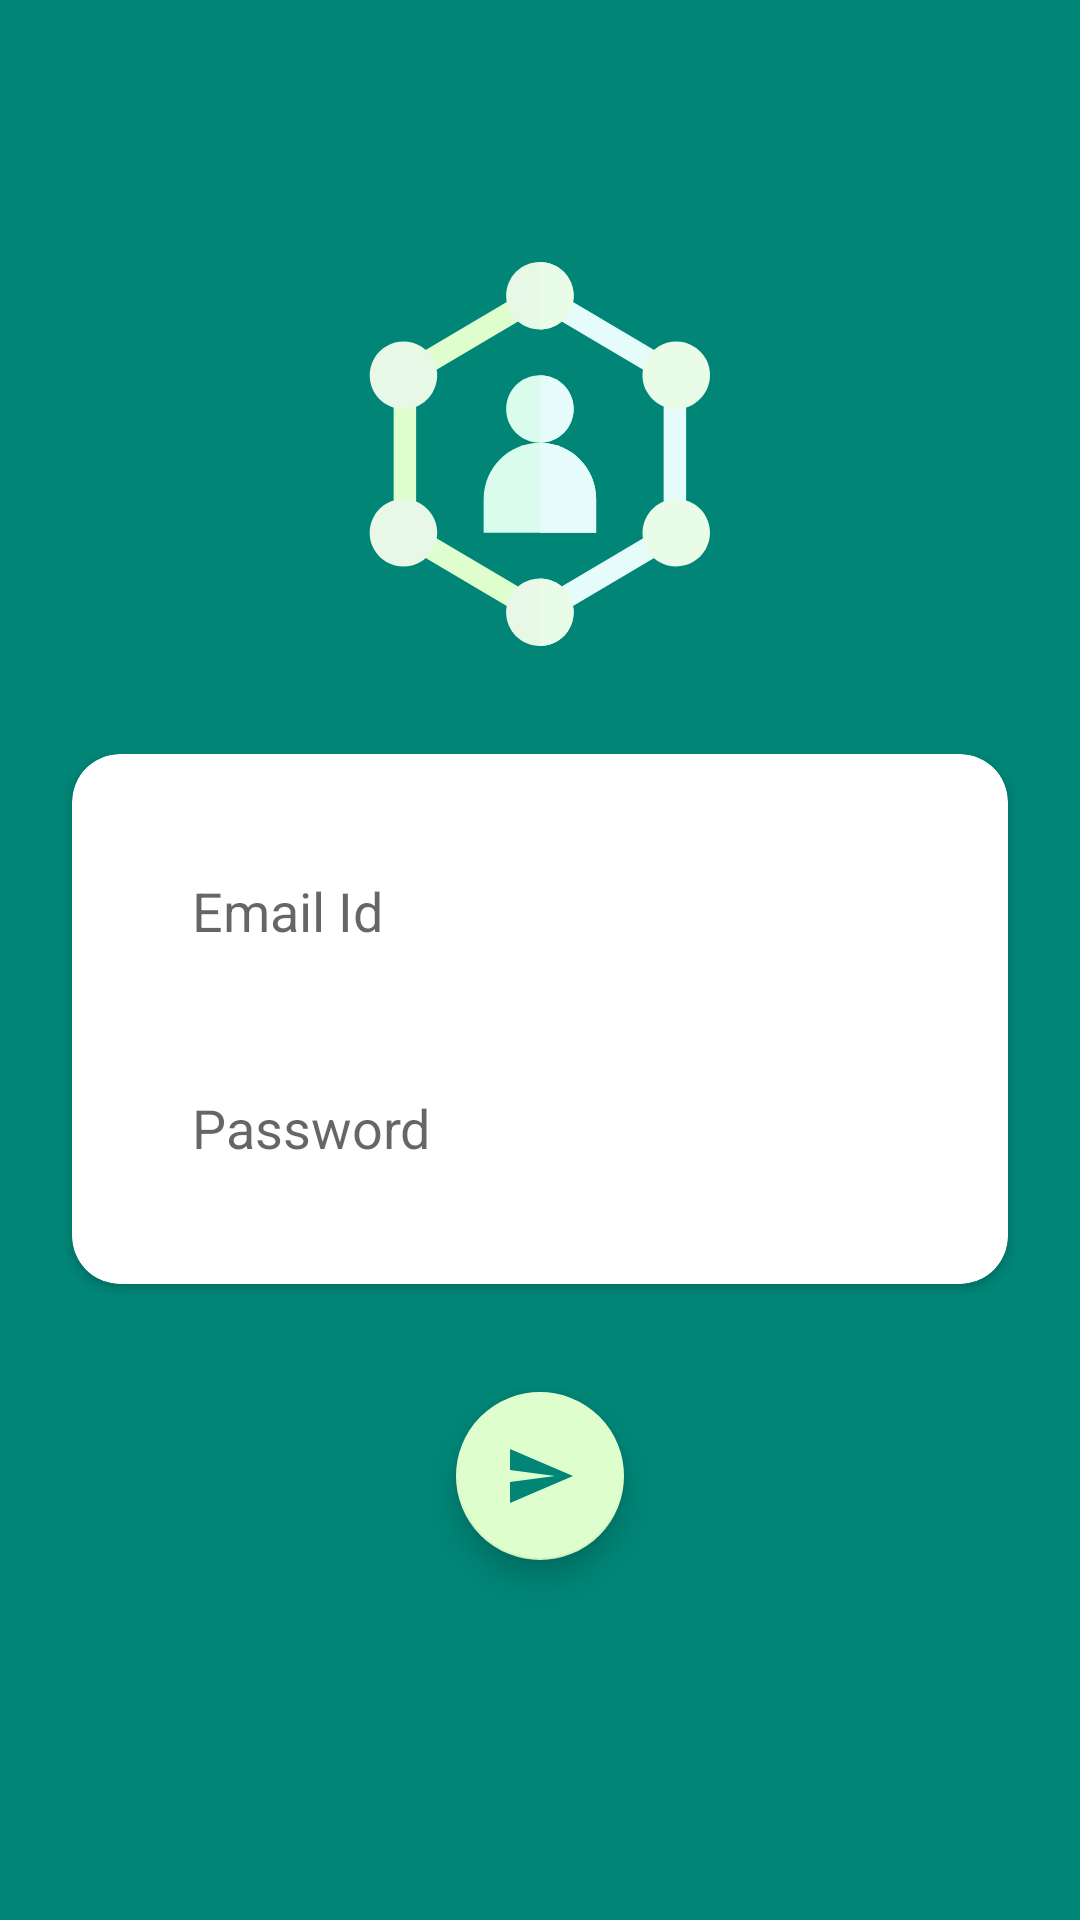

Screen size 1080px x 1920px. Icon name, then its box in pixels as (x1,y1,x2,y2):
send: (456,1392,624,1560)
